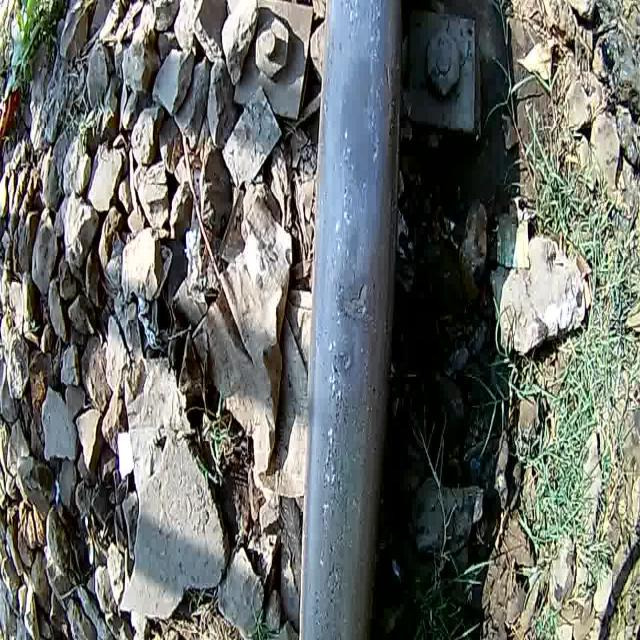Squats: (302, 224, 405, 410), (304, 41, 412, 212)
